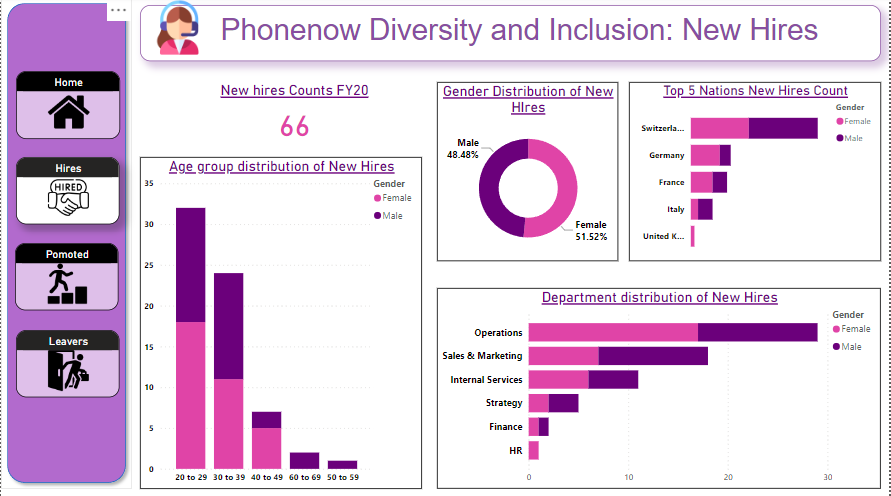

The dashboard page shown, as its layout file describes it:
{"tool":"powerbi","page":{"name":"Page 2","canvas":[1280,720],"ordinal":1},"visuals":[{"type":"textbox","box":[200.2,11.5,1067,80.6],"z":0},{"type":"shape","box":[0,0,188.6,708.5],"z":1000},{"type":"image","title":"Home","box":[21.6,106.6,149.8,97.9],"z":2000},{"type":"image","title":"Hires","box":[21.6,230.4,149,97],"z":3000},{"type":"image","title":"Pomoted","box":[20.2,354.2,149,97],"z":4000},{"type":"image","title":"Leavers","box":[21.6,479.5,149,97],"z":5000},{"type":"card","title":"New hires Counts FY20","fields":{"Values":["Pharma Group AG.# of new hires fy20"]},"box":[308.2,122.4,229,95],"z":6000},{"type":"donutChart","title":"Gender Distribution of New HIres","fields":{"Category":["Pharma Group AG.Gender"],"Y":["Pharma Group AG.# of new hires fy20"]},"box":[627.8,122.4,260.6,257.8],"z":7000},{"type":"barChart","title":"Department distribution of New Hires","fields":{"Category":["Pharma Group AG.Department @01.07.2020"],"Series":["Pharma Group AG.Gender"],"Y":["Pharma Group AG.# of new hires fy20"]},"box":[627.8,419,639.4,289.4],"z":8000},{"type":"columnChart","title":"Age group distribution of  New Hires","fields":{"Category":["Pharma Group AG.Age group"],"Series":["Pharma Group AG.Gender"],"Y":["Pharma Group AG.# of new hires fy20"]},"box":[200.2,230.4,406.1,478.1],"z":9000},{"type":"barChart","title":"Top 5 Nations New Hires Count","fields":{"Category":["Pharma Group AG.Nationality 1"],"Series":["Pharma Group AG.Gender"],"Y":["Pharma Group AG.# of new hires fy20"]},"box":[904.3,122.4,362.9,257.8],"z":10000},{"type":"image","box":[188.6,0,132.5,87.8],"z":11000}]}

Visuals, with their boxes in screenshot pixels (x1, y1, x2, y2), scaled from the page's 1280x720 canvas onto the 891x496 screenshot:
textbox: 139:8:882:63
shape: 0:0:131:488
"Home" image: 15:73:119:141
"Hires" image: 15:159:119:226
"Pomoted" image: 14:244:118:311
"Leavers" image: 15:330:119:397
"New hires Counts FY20" card: 215:84:374:150
"Gender Distribution of New HIres" donutChart: 437:84:618:262
"Department distribution of New Hires" barChart: 437:289:882:488
"Age group distribution of  New Hires" columnChart: 139:159:422:488
"Top 5 Nations New Hires Count" barChart: 629:84:882:262
image: 131:0:224:60
